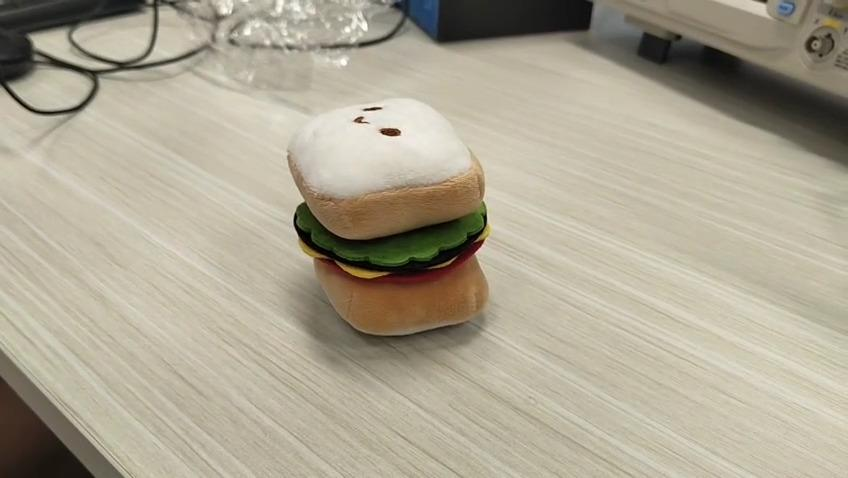objects: (288, 96, 491, 335)
